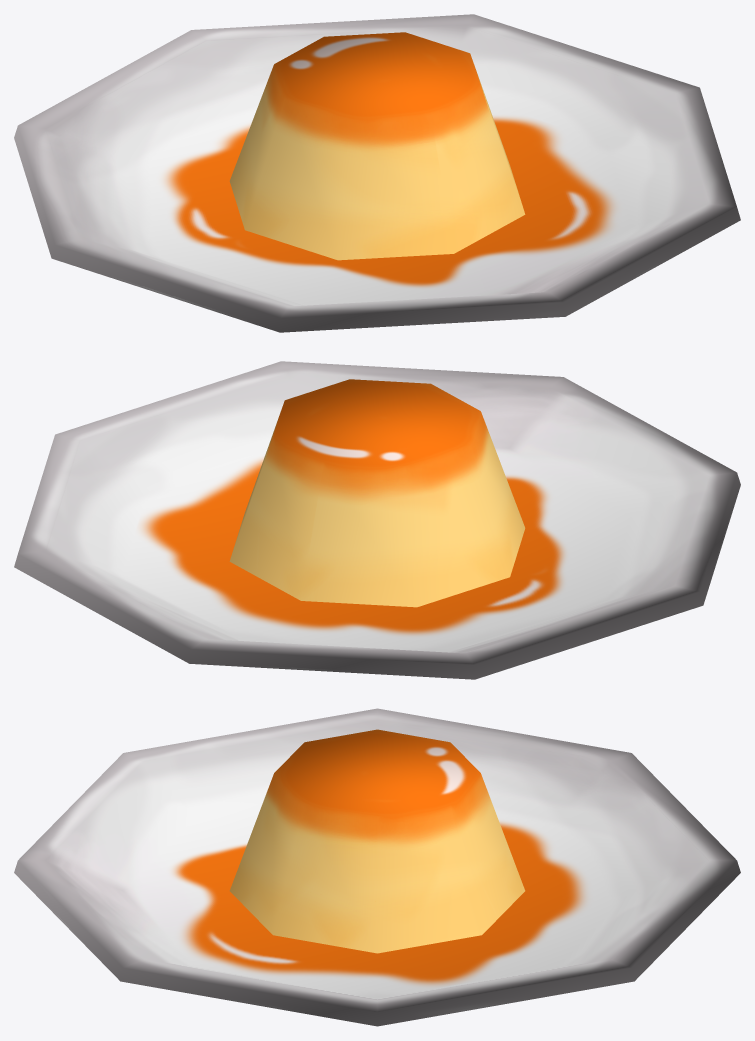
The model's file is Pudding.fbx.
3 views of the same model, one above another, from view 1: azimuth 30°, elevation 25°; view 2: azimuth 150°, elevation 25°; view 3: azimuth 270°, elevation 25° (orthographic). The views are drawn at different scales.
Parts seen in each view (by area): view 1: Pudding; view 2: Pudding; view 3: Pudding.
Part boxes in pixels (x1,y1,x2,y2): Pudding: [14, 14, 740, 332]; Pudding: [14, 361, 740, 679]; Pudding: [14, 708, 740, 1026].
Size of the model in its own units: 191 by 36.04 by 191.
2 materials, 2 textured.
